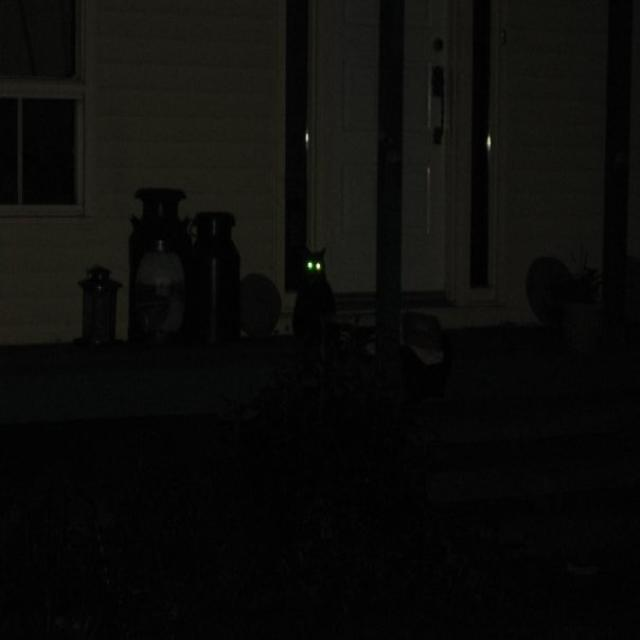Bottle: (114, 169, 196, 341), (185, 204, 251, 351)
Cat: (277, 229, 344, 337)
